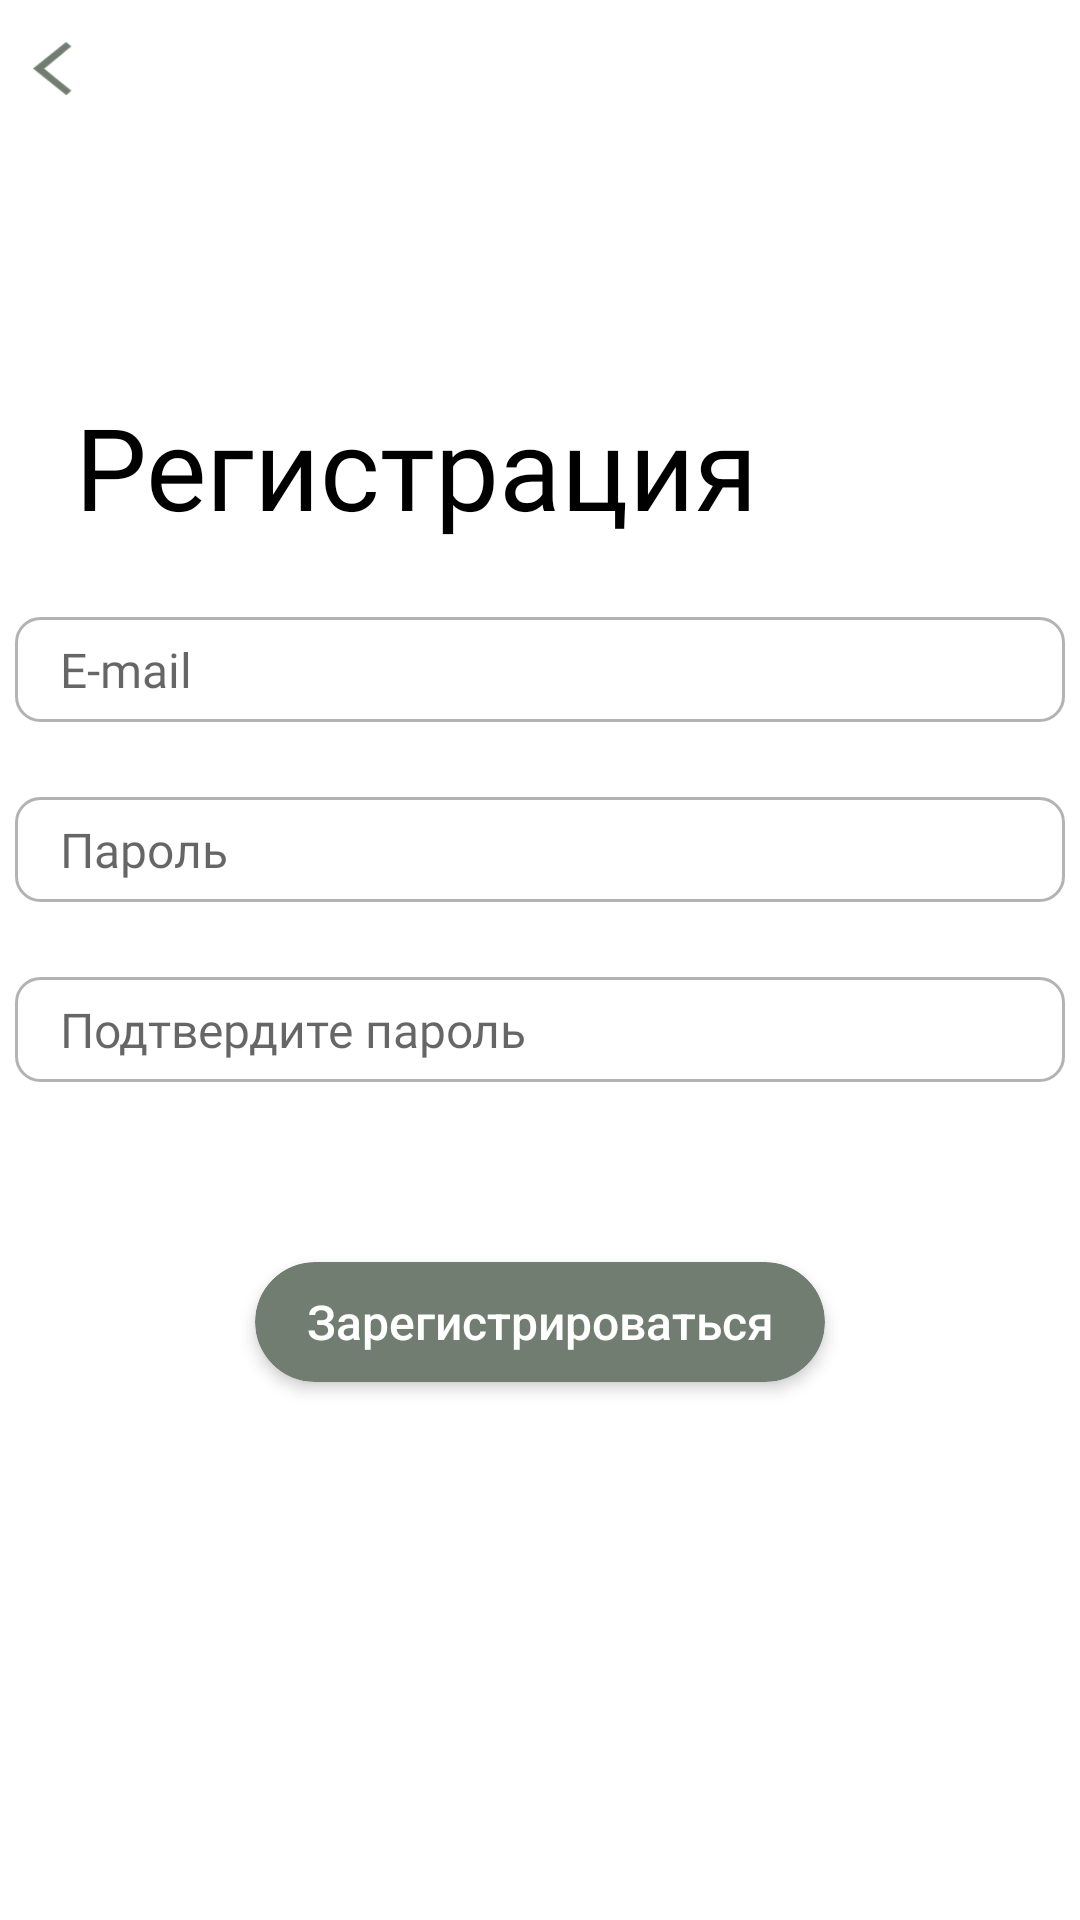

Icons on this 1080px×1920px Android screen, each with its box as {"x1": x1, "y1": y1, "x2": x2, "y2": y2}:
exit: {"x1": 33, "y1": 42, "x2": 71, "y2": 95}
